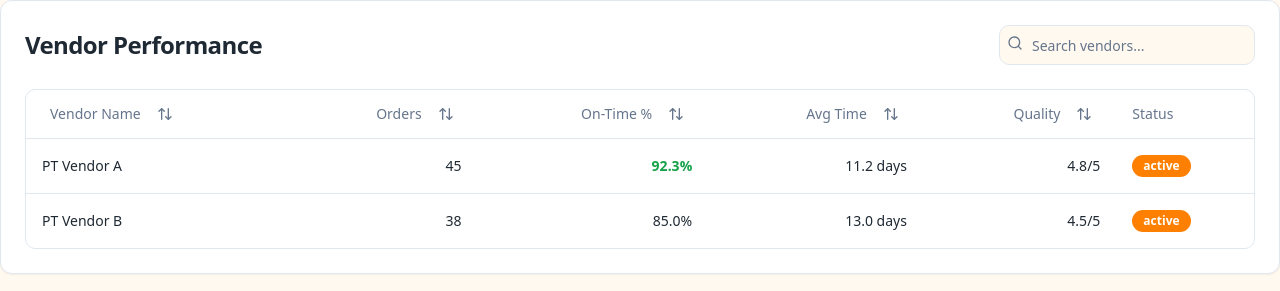
it: VendorPerformanceTable › filters vendors by search query
Step 1. Type "Vendor A" into the field with placeholder "Search vendors..." → {"x": 1127, "y": 45}, box [999, 25, 1255, 65]
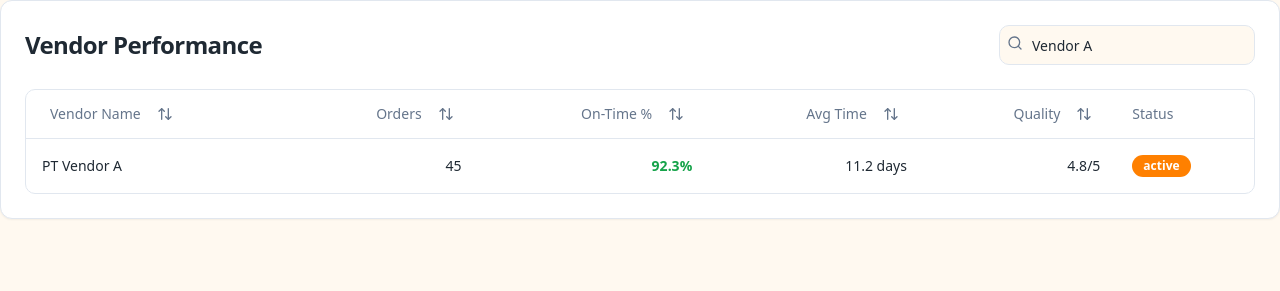
Expected: the text "PT Vendor A" is shown, [26, 138, 286, 192]
Now the text "PT Vendor B" is gone
